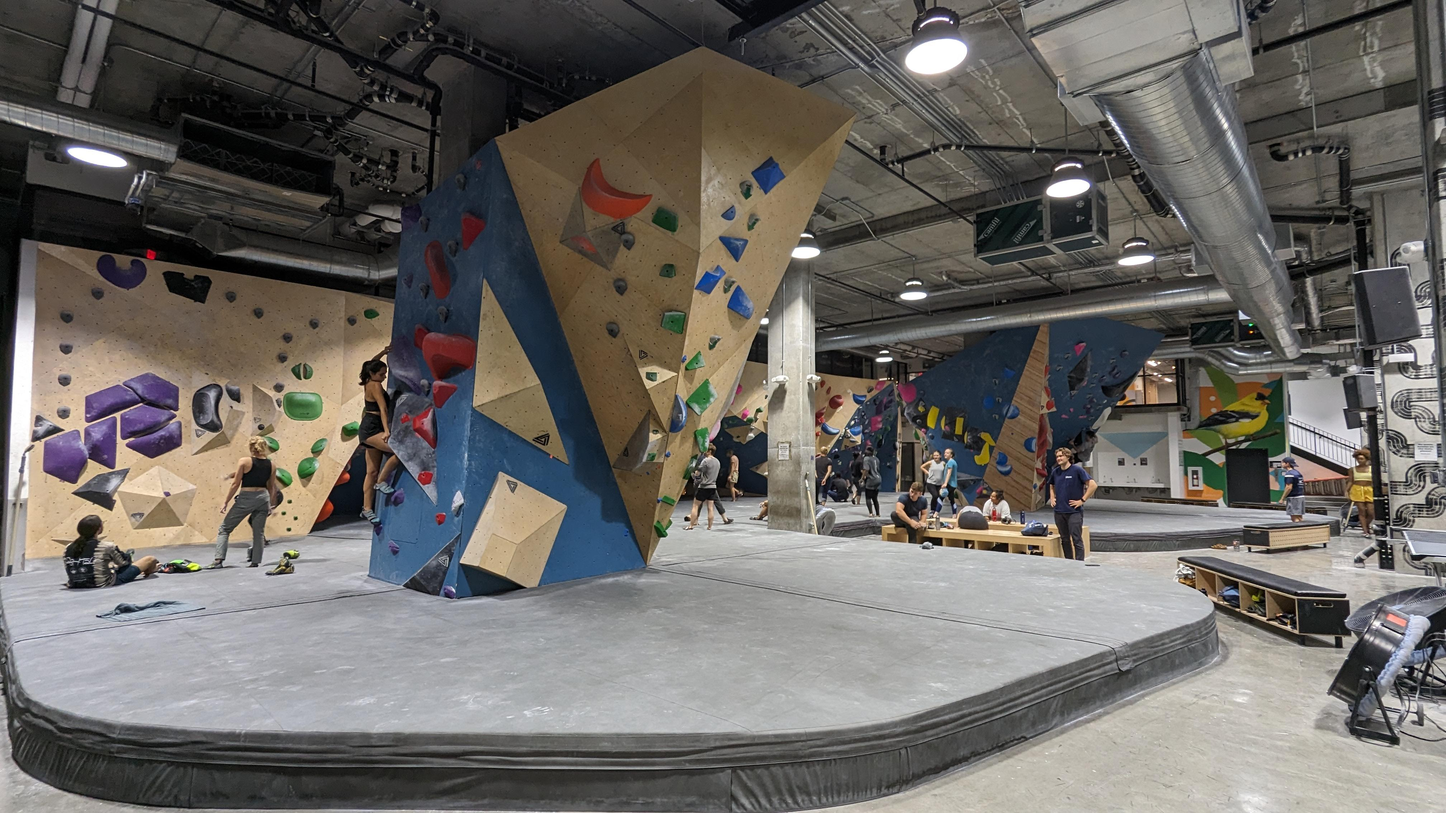black-hold: (569, 155, 654, 235), (32, 419, 98, 487), (70, 450, 131, 512), (120, 363, 188, 416), (77, 376, 147, 425), (380, 332, 429, 402), (112, 393, 178, 441), (125, 419, 190, 466), (420, 331, 477, 384), (156, 261, 214, 305), (420, 239, 455, 301), (93, 253, 148, 291), (83, 416, 117, 470), (22, 407, 66, 444), (192, 383, 223, 433), (749, 156, 788, 195), (684, 378, 722, 417), (1100, 369, 1145, 401), (724, 284, 762, 321), (693, 261, 728, 299), (713, 228, 749, 263), (282, 392, 323, 421), (411, 406, 437, 450), (459, 211, 487, 251), (427, 379, 458, 411), (668, 394, 691, 435), (651, 206, 683, 234), (396, 202, 426, 231), (293, 453, 323, 481), (311, 498, 338, 528), (406, 322, 432, 351), (568, 233, 600, 254), (661, 309, 687, 334), (1091, 404, 1113, 433), (1031, 435, 1053, 462), (693, 426, 714, 454), (271, 464, 296, 487), (446, 490, 468, 516), (682, 350, 706, 373), (682, 452, 700, 482), (388, 487, 410, 509), (741, 211, 763, 233), (308, 435, 331, 456), (737, 178, 758, 201), (706, 418, 724, 444), (617, 230, 638, 251), (333, 469, 353, 491), (718, 274, 738, 296), (610, 276, 631, 296), (602, 319, 623, 339), (898, 381, 917, 403), (721, 204, 741, 224), (704, 331, 723, 352), (979, 429, 998, 450), (415, 468, 434, 488), (651, 520, 669, 541), (925, 405, 940, 430), (819, 422, 841, 439), (974, 442, 990, 465), (1037, 414, 1048, 447), (826, 393, 846, 411), (414, 214, 432, 233), (1070, 338, 1088, 357), (261, 435, 282, 451), (341, 421, 362, 437), (445, 238, 461, 259), (384, 539, 402, 557), (414, 281, 431, 300), (434, 304, 450, 324), (999, 364, 1017, 381), (225, 384, 241, 403), (994, 451, 1010, 468), (400, 272, 415, 289), (659, 263, 676, 278), (363, 306, 380, 321), (1007, 403, 1021, 421), (1023, 436, 1037, 453), (996, 463, 1013, 477), (91, 286, 106, 301), (58, 342, 74, 356), (982, 395, 996, 411), (814, 406, 830, 420), (56, 406, 71, 420), (420, 379, 431, 398), (868, 413, 884, 426), (1033, 466, 1049, 479), (252, 305, 266, 319), (443, 585, 456, 600), (873, 378, 886, 393), (1043, 398, 1058, 411), (661, 495, 677, 507), (869, 421, 885, 433), (398, 411, 412, 424), (291, 362, 301, 380), (852, 393, 867, 405), (849, 425, 864, 437), (1000, 402, 1011, 418), (373, 524, 386, 537), (60, 311, 73, 324), (224, 290, 237, 303), (282, 331, 295, 344), (343, 457, 354, 472), (955, 417, 964, 435), (645, 451, 657, 464), (58, 374, 71, 386), (739, 408, 751, 421), (1040, 364, 1051, 378), (304, 363, 313, 379), (662, 519, 674, 531), (309, 318, 321, 330), (346, 314, 358, 326), (435, 513, 446, 526), (278, 351, 289, 363), (274, 382, 286, 393), (645, 372, 658, 382), (1043, 385, 1053, 398), (733, 384, 744, 395), (744, 432, 755, 442), (815, 416, 826, 426), (745, 415, 755, 425), (680, 354, 689, 364), (818, 379, 827, 389), (865, 385, 875, 394), (276, 398, 284, 409), (917, 405, 926, 414), (940, 415, 945, 431), (963, 430, 968, 444), (257, 423, 265, 431), (1032, 483, 1040, 491), (840, 428, 846, 438), (664, 451, 672, 458), (656, 496, 663, 504), (846, 388, 853, 396), (836, 406, 843, 414), (1061, 413, 1069, 420), (826, 386, 833, 394), (756, 406, 763, 413), (920, 427, 927, 434), (730, 398, 736, 406), (850, 419, 856, 427), (1078, 415, 1087, 420), (944, 426, 951, 432), (163, 492, 171, 497), (1083, 380, 1089, 386), (286, 527, 292, 532), (652, 430, 659, 434), (293, 516, 298, 521), (816, 431, 821, 436), (287, 499, 292, 503), (281, 511, 286, 515), (646, 471, 650, 476), (982, 490, 987, 494), (763, 472, 768, 476), (1070, 408, 1073, 412)
